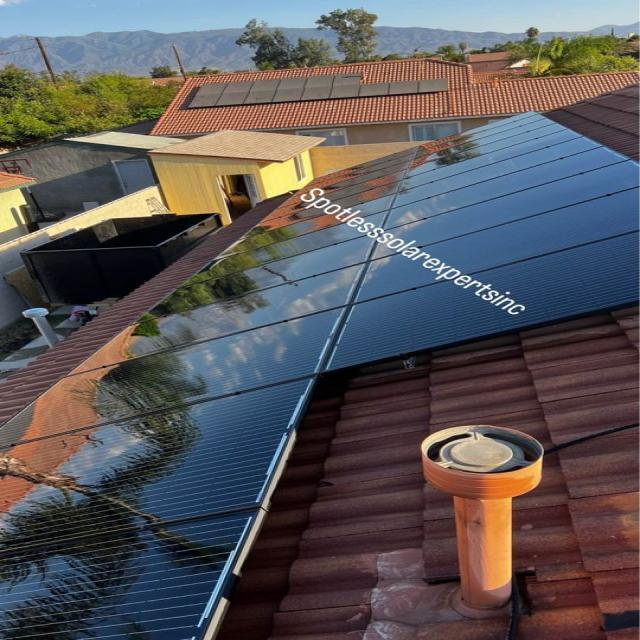Non Defective: (4, 114, 636, 639), (4, 236, 636, 639)
